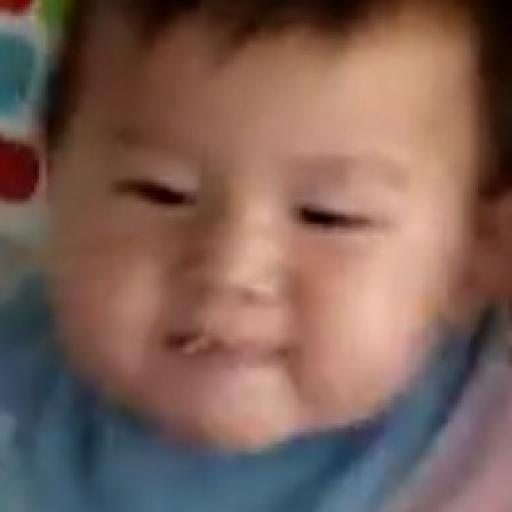Autism: (34, 0, 476, 495)
